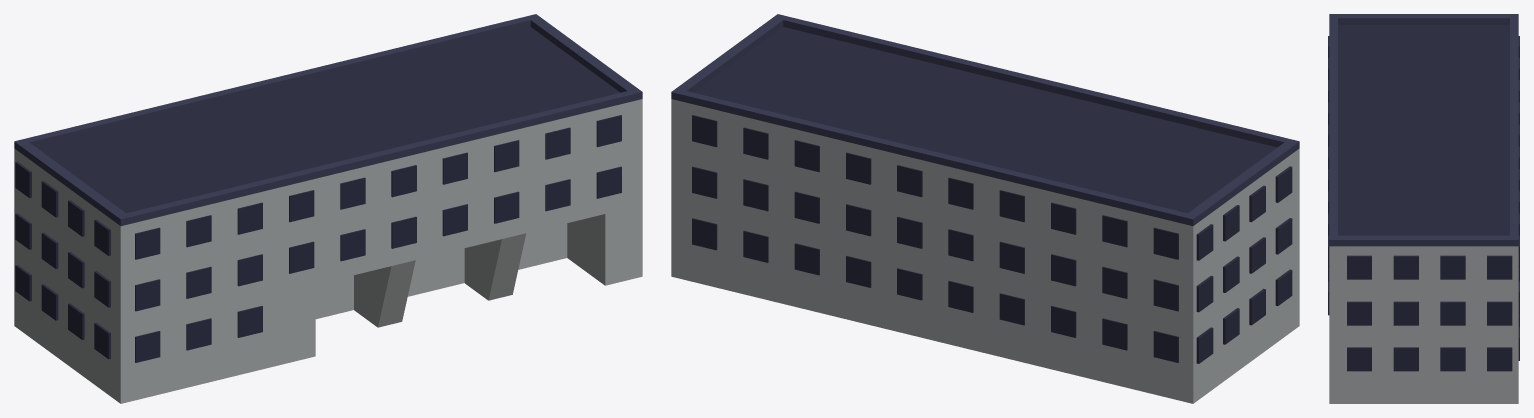
Rendered from House7.fbx.
3 views of the same model, side by side, from view 1: azimuth 30°, elevation 25°; view 2: azimuth 150°, elevation 25°; view 3: azimuth 270°, elevation 25° (orthographic). The views are drawn at different scales.
Parts seen in each view (by area): view 1: House7; view 2: House7; view 3: House7.
Part boxes in pixels (x1=…): House7: x1=14, y1=14, x2=642, y2=403; House7: x1=671, y1=14, x2=1299, y2=403; House7: x1=1328, y1=14, x2=1519, y2=403.
Size of the model in its own units: 2260 by 758 by 803.
1 material, 1 textured.
